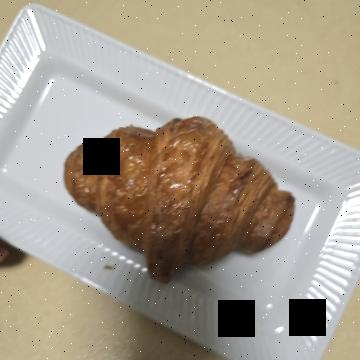croissant: (98, 56, 290, 300)
